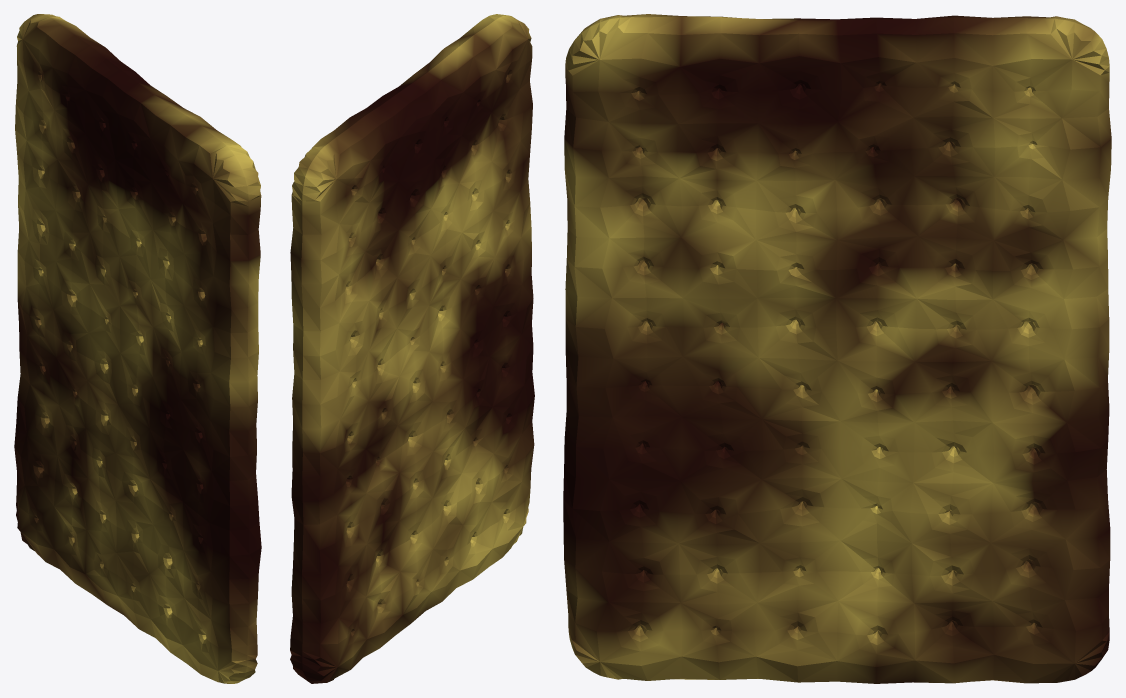
The model's file is tuc.obj.
The picture shows the model from 3 angles, left to right: view 1: azimuth 30°, elevation 25°; view 2: azimuth 150°, elevation 25°; view 3: azimuth 270°, elevation 25°; orthographic projection. The views are drawn at different scales.
Visible parts, largest first — view 1: object 1; view 2: object 1; view 3: object 1, pointfilletpolys.
Boxes of the visible parts, x1,y1,x2,y2 form: object 1: (14, 14, 261, 683); object 1: (290, 14, 534, 683); object 1: (563, 14, 1111, 683); pointfilletpolys: (637, 83, 1038, 631).
Bounding box in the file's own units: 0.1251 × 1.35 × 1.01.
